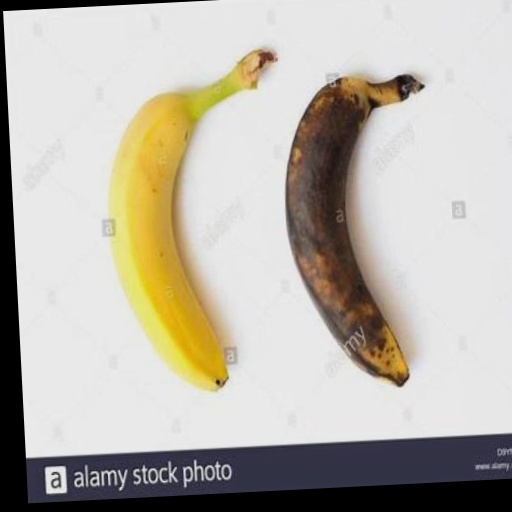fruit: (110, 50, 275, 389), (286, 75, 423, 385)
